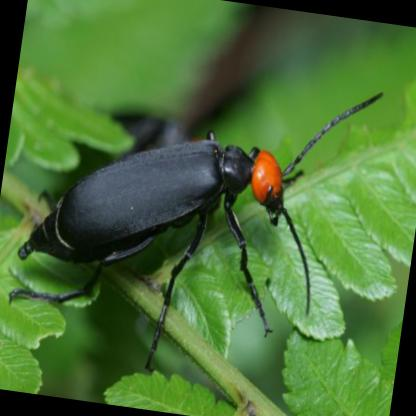blister beetle: (19, 90, 382, 342)
